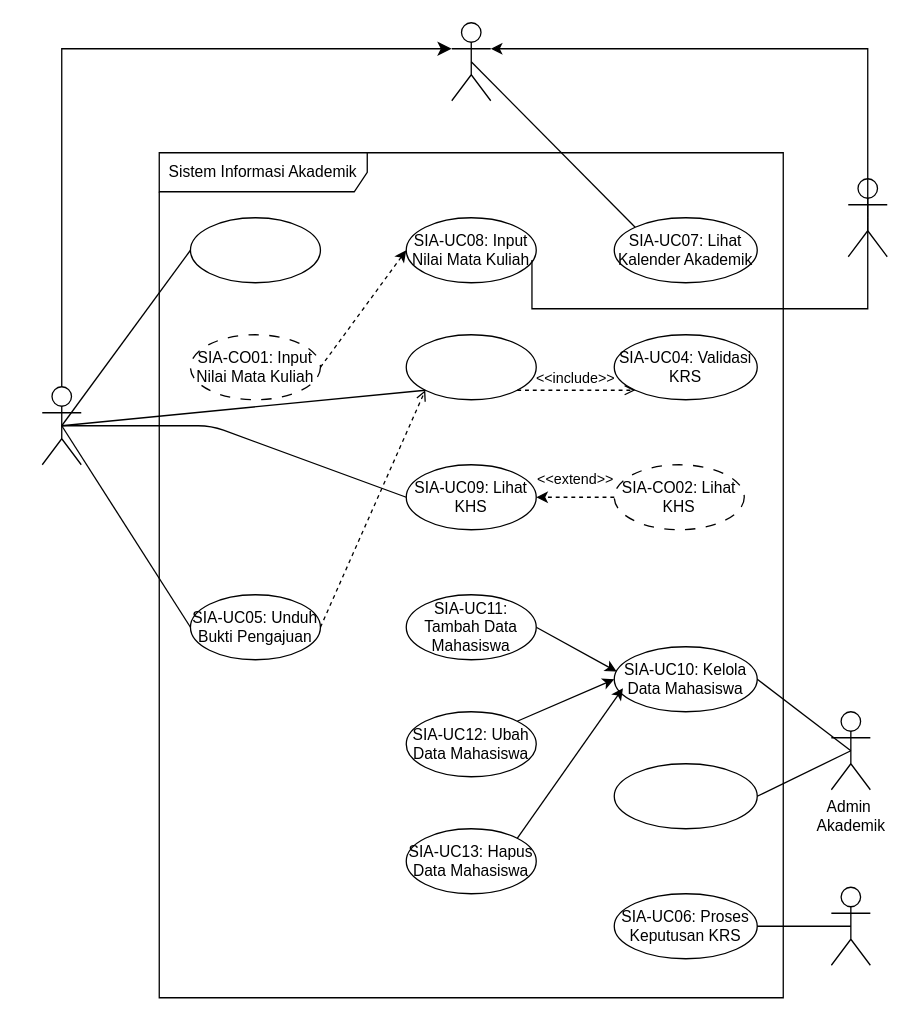
The diagram is 913 pixels wide and 1020 high, and some of its shapes have lost their labels. Here are the shapes that lost their labels. From the top down, the centre of each, then its label:
the point at 470,61: Civitas Akademik
the point at 867,217: Dosen
the point at 254,249: SIA-UC01: Lihat Jadwal Kuliah
the point at 470,366: SIA-UC03: Ajukan KRS
the point at 61,425: Mahasiswa
the point at 685,795: SIA-UC02: Kelola Jadwal Kuliah
the point at 850,925: Dosen Wali
